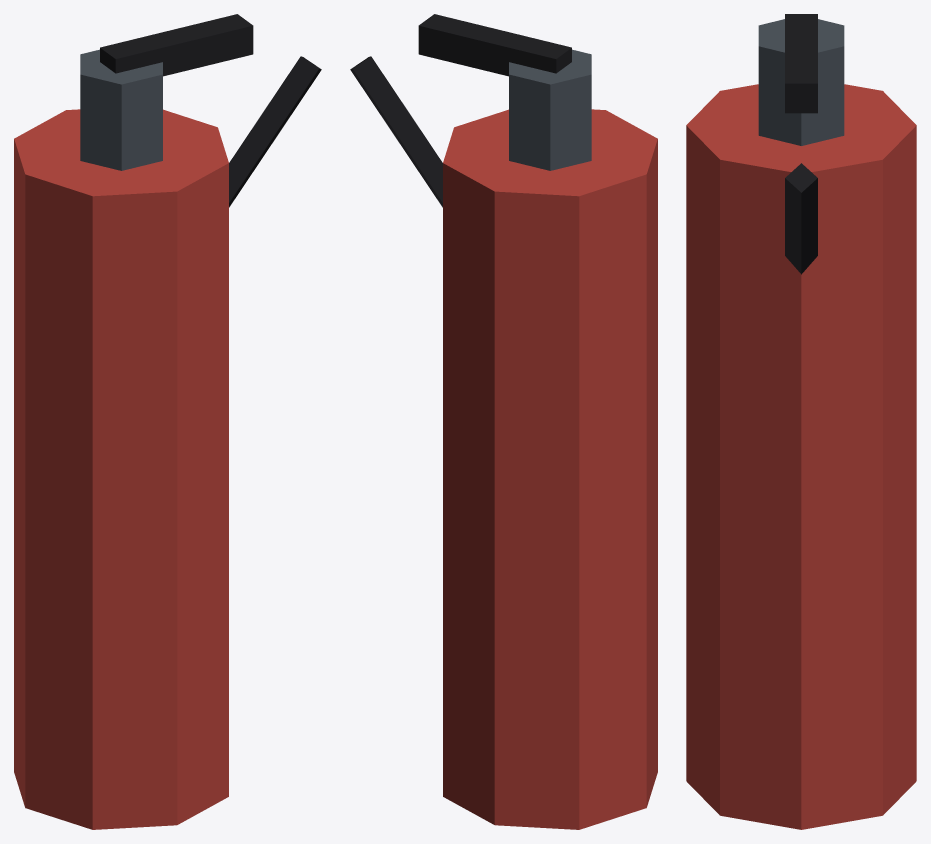
The model's file is GD_FireExtinguisher_01.glb.
The picture shows the model from 3 angles, left to right: view 1: azimuth 30°, elevation 25°; view 2: azimuth 150°, elevation 25°; view 3: azimuth 270°, elevation 25°; orthographic projection. The views are drawn at different scales.
Parts seen in each view (by area): view 1: GD_FireExtinguisher_01; view 2: GD_FireExtinguisher_01; view 3: GD_FireExtinguisher_01.
Boxes of the visible parts, x1,y1,x2,y2 form: GD_FireExtinguisher_01: (14, 14, 321, 829); GD_FireExtinguisher_01: (350, 14, 657, 829); GD_FireExtinguisher_01: (686, 14, 916, 829).
Bounding box in the file's own units: 0.2155 × 0.51 × 0.14.
Materials: 1 (1 with a texture image).
